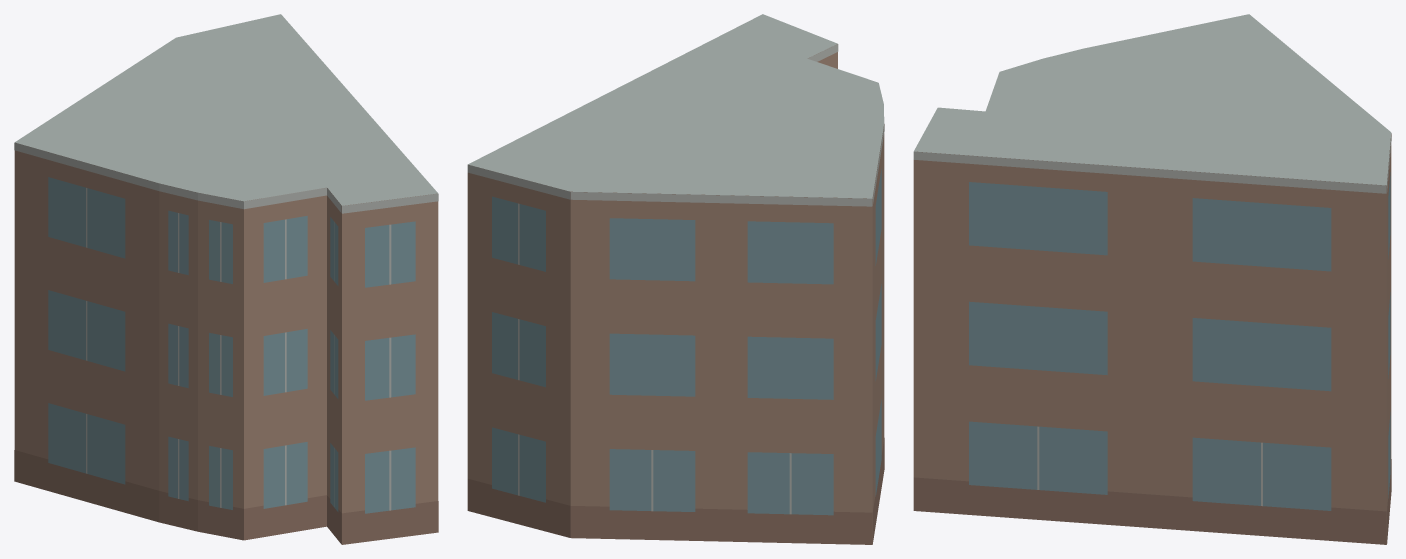
File: survey-upis-32908041.glb
3 renders of one model, left to right at view 1: azimuth 30°, elevation 25°; view 2: azimuth 150°, elevation 25°; view 3: azimuth 270°, elevation 25°, orthographic. The views are drawn at different scales.
Parts seen in each view (by area): view 1: survey-upis-32908041.tmp; view 2: survey-upis-32908041.tmp; view 3: survey-upis-32908041.tmp.
Boxes of the visible parts, box(x1,y1,x2,y2) form: survey-upis-32908041.tmp: box(14, 14, 438, 544); survey-upis-32908041.tmp: box(467, 14, 884, 544); survey-upis-32908041.tmp: box(913, 14, 1391, 544).
Size of the model in its own units: 10.75 by 10.5 by 12.66.
